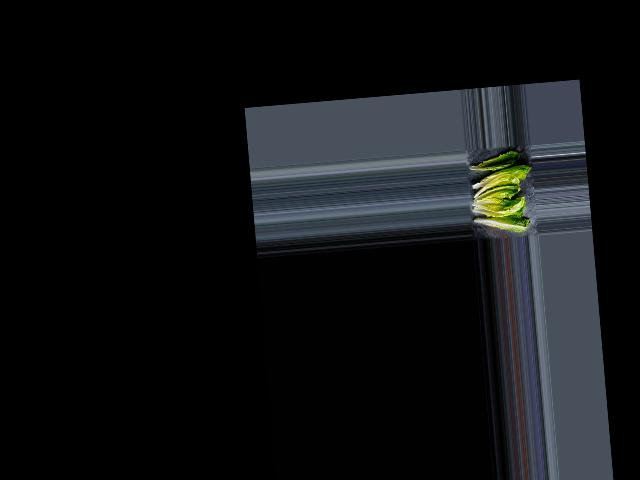lettuce: (466, 151, 520, 173)
